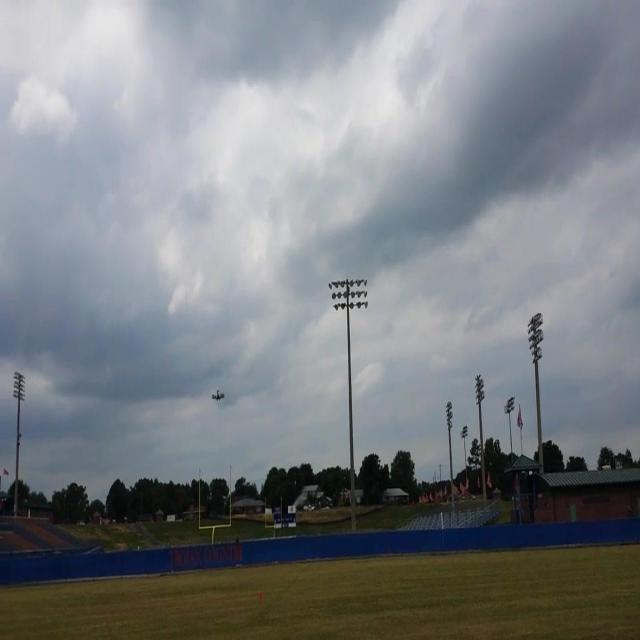UAV: (211, 389, 225, 401)
